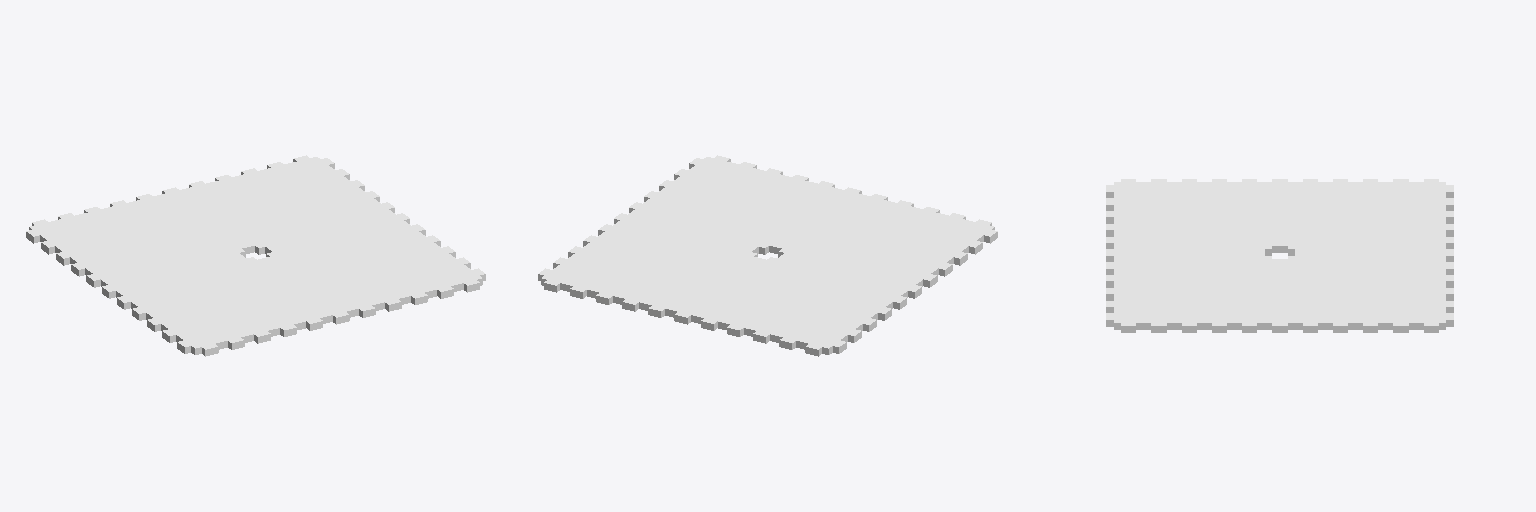
The model's file is steel_saw.obj.
The picture shows the model from 3 angles: view 1: azimuth 30°, elevation 25°; view 2: azimuth 150°, elevation 25°; view 3: azimuth 270°, elevation 25°; orthographic projection.
Parts seen in each view (by area): view 1: steel_saw; view 2: steel_saw; view 3: steel_saw.
Part boxes in pixels (bbox=[...]): steel_saw: bbox=[26, 155, 485, 356]; steel_saw: bbox=[538, 155, 997, 356]; steel_saw: bbox=[1106, 179, 1453, 332].
Bounding box in the file's own units: 2.88 × 0.0625 × 2.88.